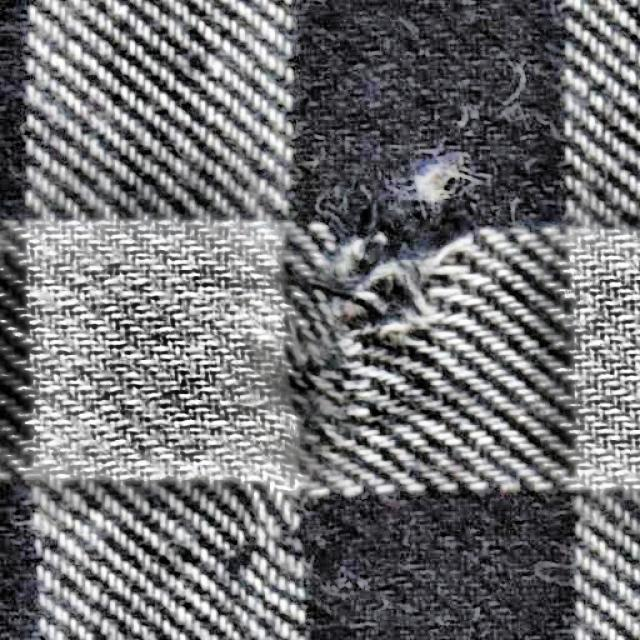Stitch: (253, 99, 548, 509)
